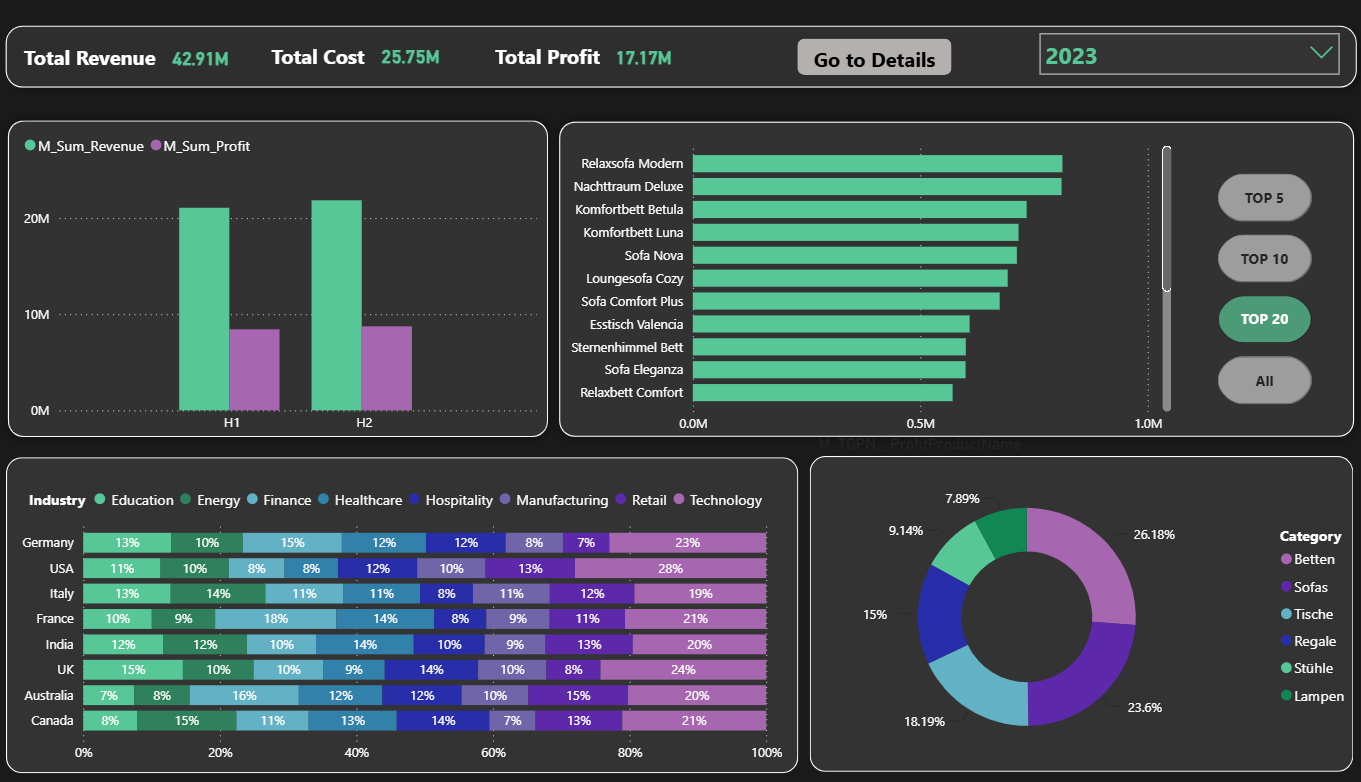

What the dashboard file says about the page in this screenshot:
{"tool":"powerbi","page":{"name":"Header","canvas":[1280,720],"ordinal":0},"visuals":[{"type":"shape","box":[9.1,411.5,739.9,295],"z":0},{"type":"shape","box":[1.4,87.1,524.3,315.7],"z":1000},{"type":"shape","box":[516.3,88.6,762.3,314.3],"z":2000},{"type":"shape","box":[759.5,411.4,507.6,294.9],"z":3000},{"type":"shape","box":[0,0,1279.8,75.9],"z":4000},{"type":"card","fields":{"Values":["ListOfMeasures.M_Sum_Cost"]},"box":[339.9,19.2,95,40.6],"z":5000},{"type":"card","fields":{"Values":["ListOfMeasures.M_Sum_Profit"]},"box":[546,16.5,117.2,47.2],"z":6000},{"type":"card","fields":{"Values":["ListOfMeasures.M_Sum_Revenue"]},"box":[138.2,22,106.7,36.7],"z":7000},{"type":"textbox","box":[252.7,20.1,122.5,40],"z":8000},{"type":"textbox","box":[21.5,20.5,140.5,37.2],"z":9000},{"type":"textbox","box":[461,20.1,122.5,40],"z":10000},{"type":"clusteredColumnChart","fields":{"Y":["ListOfMeasures.M_Sum_Revenue","ListOfMeasures.M_Sum_Profit"],"Category":["DimDate.HalfYearName Hierarchy.HalfYearName","DimDate.HalfYearName Hierarchy.QuarterName","DimDate.HalfYearName Hierarchy.MonthName"]},"box":[21.4,99.8,489,297.8],"z":11000},{"type":"clusteredBarChart","fields":{"Category":["DimProduct.ProductName"],"Y":["ListOfMeasures.M_TOPN__ProfitProductName"]},"box":[522.8,108.9,579.8,303.8],"z":12000},{"type":"hundredPercentStackedBarChart","fields":{"Category":["DimCustomers.Country"],"Y":["ListOfMeasures.M_Sum_Revenue"],"Series":["DimCustomers.Industry"]},"box":[12.1,431.2,727.8,275.4],"z":13000},{"type":"donutChart","fields":{"Category":["DimProduct.Category"],"Y":["ListOfMeasures.M_Sum_Profit"]},"box":[721.2,422,558.8,277.5],"z":14000},{"type":"slicer","fields":{"Values":["DimDate.Year_Date"]},"box":[963.8,6.3,300,55.7],"z":15000},{"type":"advancedSlicerVisual","fields":{"Values":["TopTBL.Value"]},"box":[1145.6,100,100,220.3],"z":16000},{"type":"actionButton","box":[748.1,21.5,144.3,34.2],"z":17000}]}

Visuals, with their boxes in screenshot pixels (x1, y1, x2, y2), scaled from the page's 1280x720 canvas onto the 1361x782 screenshot:
shape: BBox(10, 447, 796, 767)
shape: BBox(1, 95, 559, 437)
shape: BBox(549, 96, 1360, 438)
shape: BBox(808, 447, 1347, 767)
shape: BBox(0, 0, 1360, 82)
card - ListOfMeasures.M_Sum_Cost: BBox(361, 21, 462, 65)
card - ListOfMeasures.M_Sum_Profit: BBox(581, 18, 705, 69)
card - ListOfMeasures.M_Sum_Revenue: BBox(147, 24, 260, 64)
textbox: BBox(269, 22, 399, 65)
textbox: BBox(23, 22, 172, 63)
textbox: BBox(490, 22, 620, 65)
clusteredColumnChart - ListOfMeasures.M_Sum_Revenue x ListOfMeasures.M_Sum_Profit: BBox(23, 108, 543, 432)
clusteredBarChart - DimProduct.ProductName x ListOfMeasures.M_TOPN__ProfitProductName: BBox(556, 118, 1172, 448)
hundredPercentStackedBarChart - DimCustomers.Country x ListOfMeasures.M_Sum_Revenue: BBox(13, 468, 787, 767)
donutChart - DimProduct.Category x ListOfMeasures.M_Sum_Profit: BBox(767, 458, 1360, 760)
slicer - DimDate.Year_Date: BBox(1025, 7, 1344, 67)
advancedSlicerVisual - TopTBL.Value: BBox(1218, 109, 1324, 348)
actionButton: BBox(795, 23, 949, 60)
